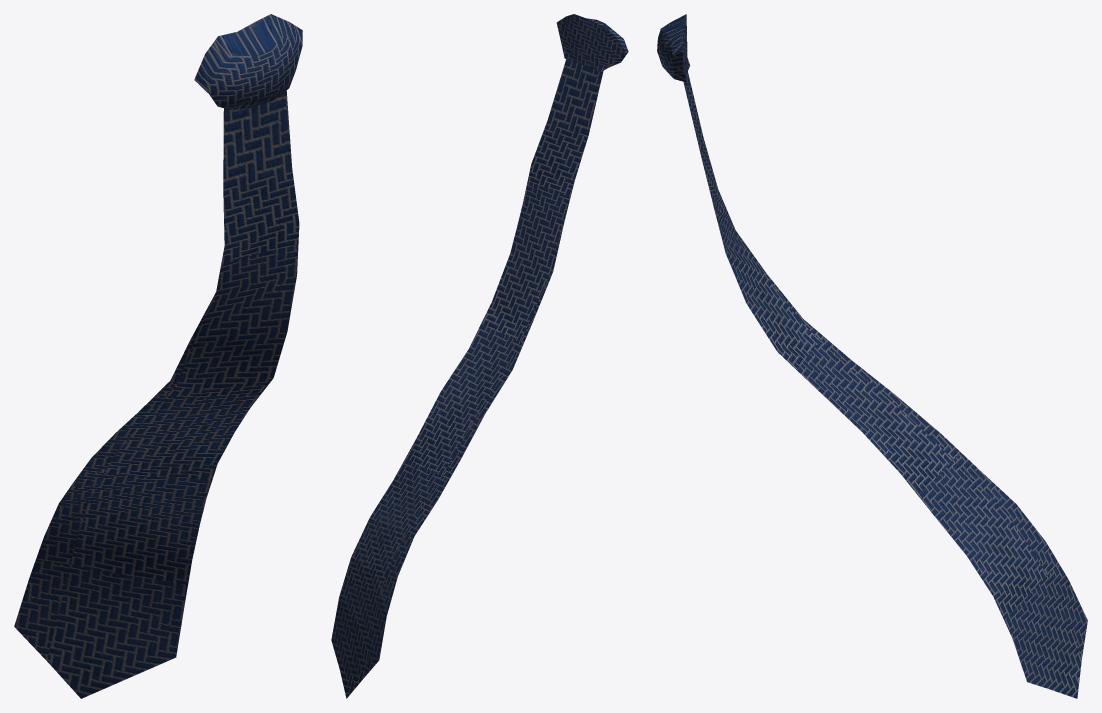
The model's file is Pose-11_Tie-3.fbx.
The picture shows the model from 3 angles, left to right: view 1: azimuth 30°, elevation 25°; view 2: azimuth 150°, elevation 25°; view 3: azimuth 270°, elevation 25°; orthographic projection. The views are drawn at different scales.
Visible parts, largest first — view 1: Pose-11_Tie-3; view 2: Pose-11_Tie-3; view 3: Pose-11_Tie-3.
Part boxes in pixels (bbox=[...]): Pose-11_Tie-3: bbox=[14, 14, 302, 698]; Pose-11_Tie-3: bbox=[331, 14, 628, 698]; Pose-11_Tie-3: bbox=[657, 14, 1087, 698].
Bounding box in the file's own units: 11.02 × 42.44 × 25.73.
